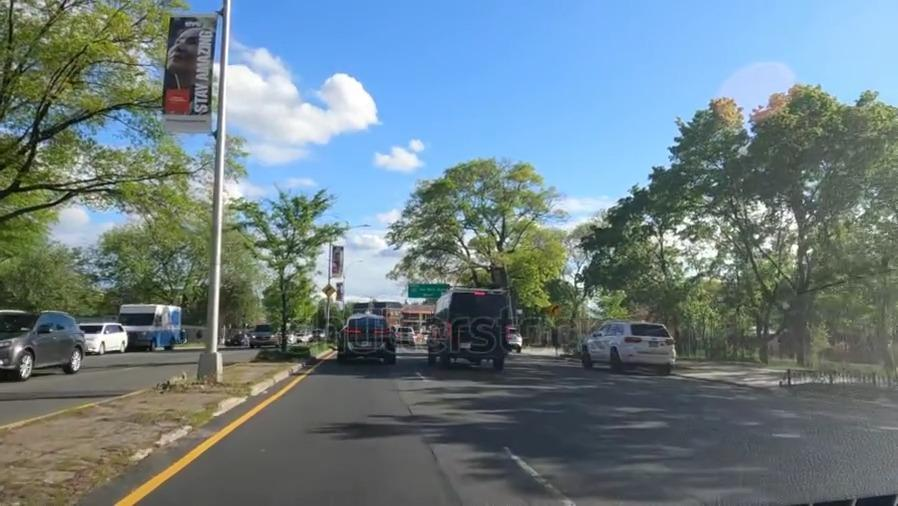car: (570, 323, 684, 375), (0, 311, 83, 381), (337, 312, 395, 362), (86, 317, 129, 358), (508, 325, 525, 352), (397, 323, 413, 349)
van: (430, 289, 510, 370), (117, 303, 183, 351)
wheel: (61, 347, 84, 372), (18, 351, 32, 378)
